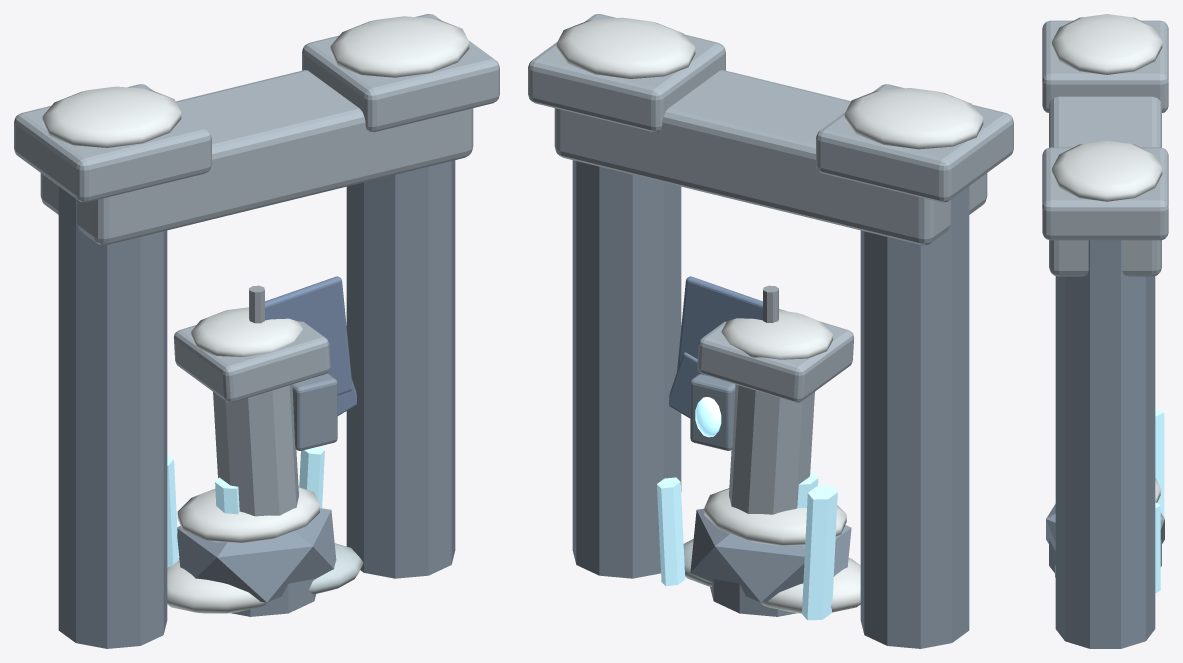
File: frost-ruins-kit.glb
3 views of the same model, side by side, from view 1: azimuth 30°, elevation 25°; view 2: azimuth 150°, elevation 25°; view 3: azimuth 270°, elevation 25° (orthographic). The views are drawn at different scales.
Parts seen in each view (by area): view 1: TempleColumn_-0.9, TempleColumn_0.9, TempleLintel, TempleCap_-0.9, TempleCap_0.9, RuinColumnShaft, SnowRockBody, TempleSnow_-0.9, TempleSnow_0.9, RuinColumnCap, SnowRockCap, BannerCloth (+8 smaller); view 2: TempleColumn_-0.9, TempleColumn_0.9, TempleLintel, TempleCap_-0.9, RuinColumnShaft, TempleCap_0.9, TempleSnow_0.9, TempleSnow_-0.9, SnowRockBody, RuinColumnCap, TempleIce_L_Ice, ColumnSnow (+8 smaller); view 3: TempleColumn_0.9, TempleLintel, TempleCap_0.9, TempleSnow_0.9, TempleSnow_-0.9, TempleCap_-0.9, TempleIce_L_Ice, TempleIce_R_Ice, SnowRockBody, RuinColumnBase.
Part boxes in pixels (bbox=[...]): TempleColumn_-0.9: bbox=[58, 186, 167, 648]; TempleColumn_0.9: bbox=[346, 160, 455, 578]; TempleLintel: bbox=[40, 70, 473, 245]; TempleCap_-0.9: bbox=[14, 84, 211, 202]; TempleCap_0.9: bbox=[302, 14, 499, 132]; RuinColumnShaft: bbox=[213, 384, 298, 516]; SnowRockBody: bbox=[177, 508, 336, 602]; TempleSnow_-0.9: bbox=[42, 86, 181, 147]; TempleSnow_0.9: bbox=[330, 16, 469, 77]; RuinColumnCap: bbox=[174, 321, 330, 402]; SnowRockCap: bbox=[177, 487, 319, 543]; BannerCloth: bbox=[265, 276, 352, 395]; TempleColumn_-0.9: bbox=[860, 186, 969, 648]; TempleColumn_0.9: bbox=[572, 160, 681, 578]; TempleLintel: bbox=[554, 70, 987, 245]; TempleCap_-0.9: bbox=[816, 84, 1013, 202]; RuinColumnShaft: bbox=[729, 384, 814, 514]; TempleCap_0.9: bbox=[528, 14, 725, 132]; TempleSnow_0.9: bbox=[556, 17, 695, 78]; TempleSnow_-0.9: bbox=[844, 88, 983, 149]; SnowRockBody: bbox=[690, 508, 851, 602]; RuinColumnCap: bbox=[697, 309, 853, 402]; TempleIce_L_Ice: bbox=[802, 485, 837, 620]; ColumnSnow: bbox=[721, 310, 832, 359]; TempleColumn_0.9: bbox=[1055, 240, 1155, 648]; TempleLintel: bbox=[1049, 96, 1161, 276]; TempleCap_0.9: bbox=[1042, 147, 1168, 240]; TempleSnow_0.9: bbox=[1052, 140, 1162, 201]; TempleSnow_-0.9: bbox=[1052, 14, 1162, 74]; TempleCap_-0.9: bbox=[1042, 20, 1168, 112]; TempleIce_L_Ice: bbox=[1155, 408, 1164, 517]; TempleIce_R_Ice: bbox=[1155, 502, 1160, 593]; SnowRockBody: bbox=[1046, 504, 1164, 550]; RuinColumnBase: bbox=[1049, 539, 1161, 572].
Size of the model in its own units: 2.64 by 3.18 by 0.76.
